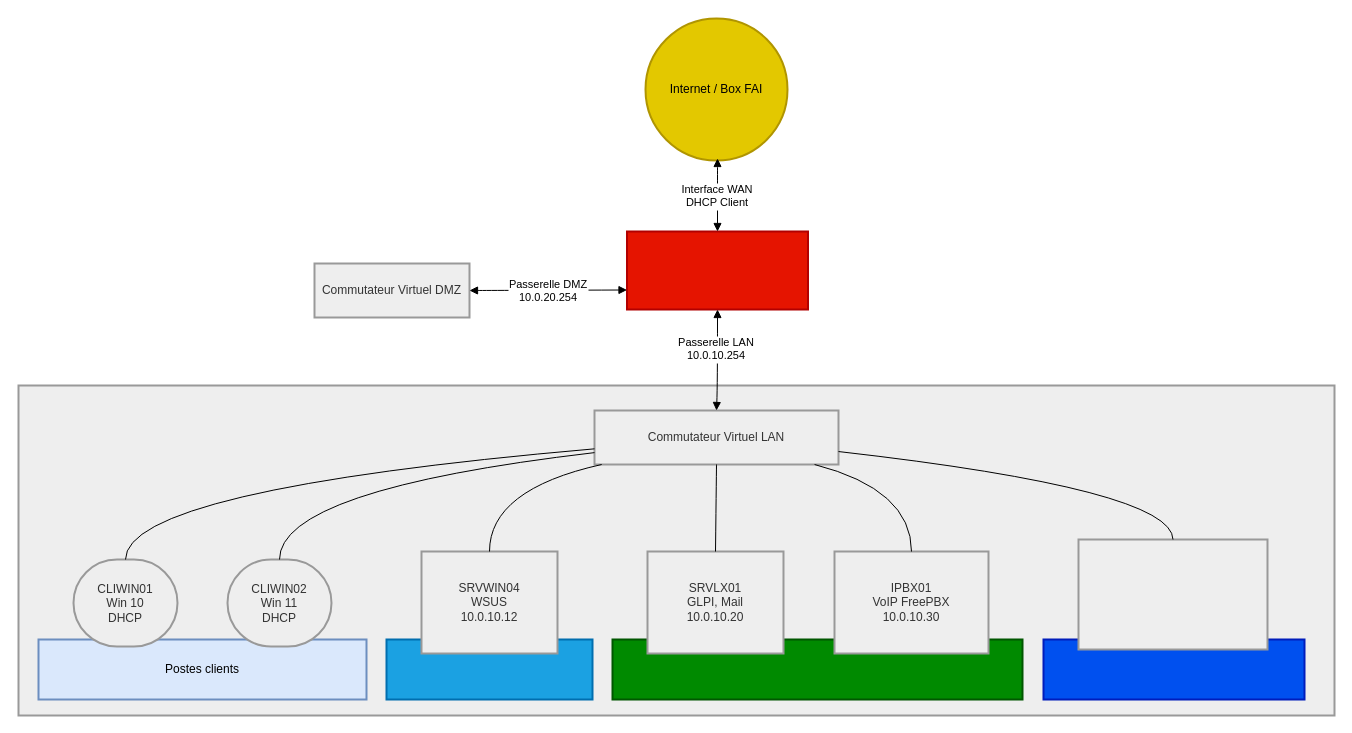
Some shapes in this 1352 by 733 pixel diagram are drawn without their labels. Here are the shapes that lost their labels. From the top down, the box of each, then its label:
(626, 230, 808, 310): Pare-feu pfSense FW01
(1077, 538, 1268, 650): SRVWIN01 Win Server GUI AD DS, DNS, DHCP 10.0.10.10
(385, 638, 593, 700): Services annexes Windows
(611, 638, 1023, 700): Services Debian/Linux
(1042, 638, 1305, 700): Cœur Infrastructure Windows
